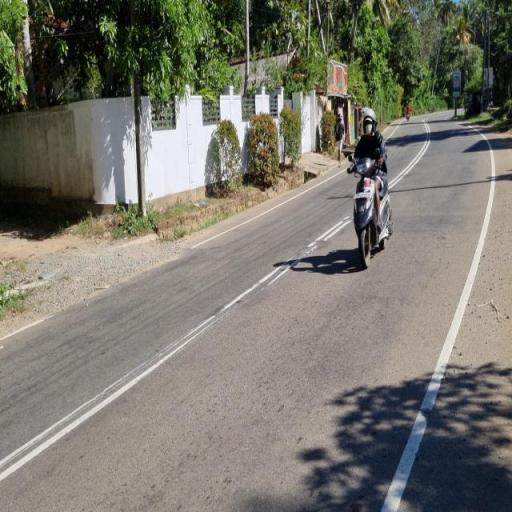double_white_line: (0, 154, 363, 485), (389, 120, 430, 187)
